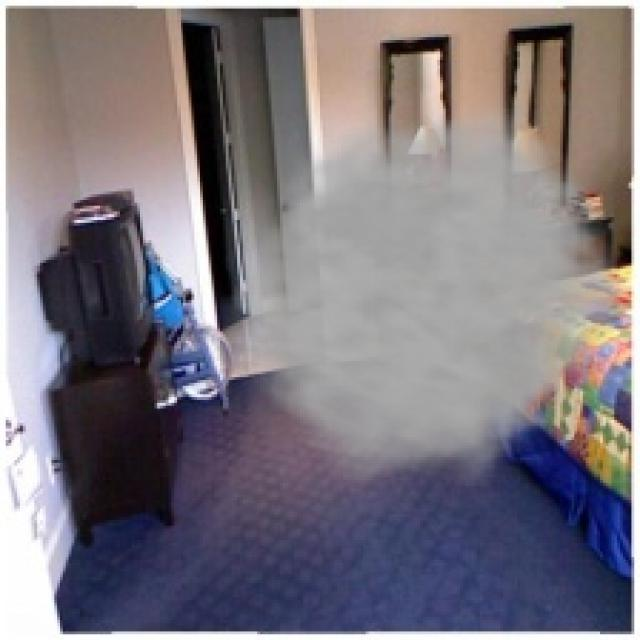smoke: (212, 91, 637, 486)
